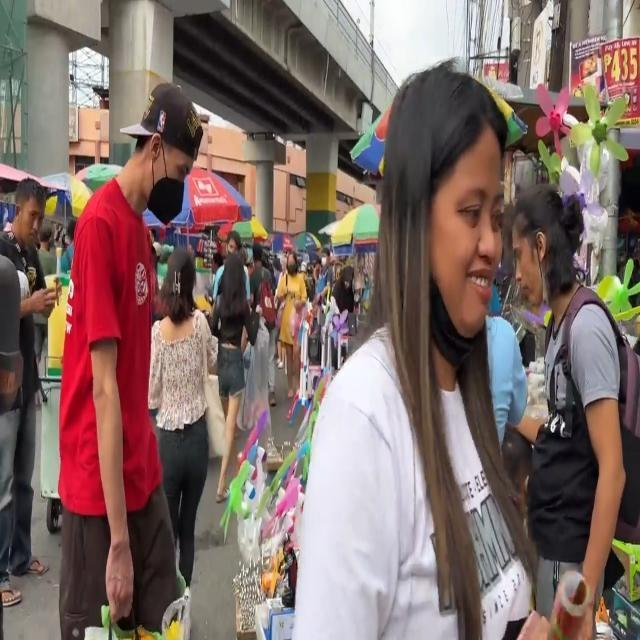hairnet: (426, 132, 504, 350), (513, 222, 549, 306)
